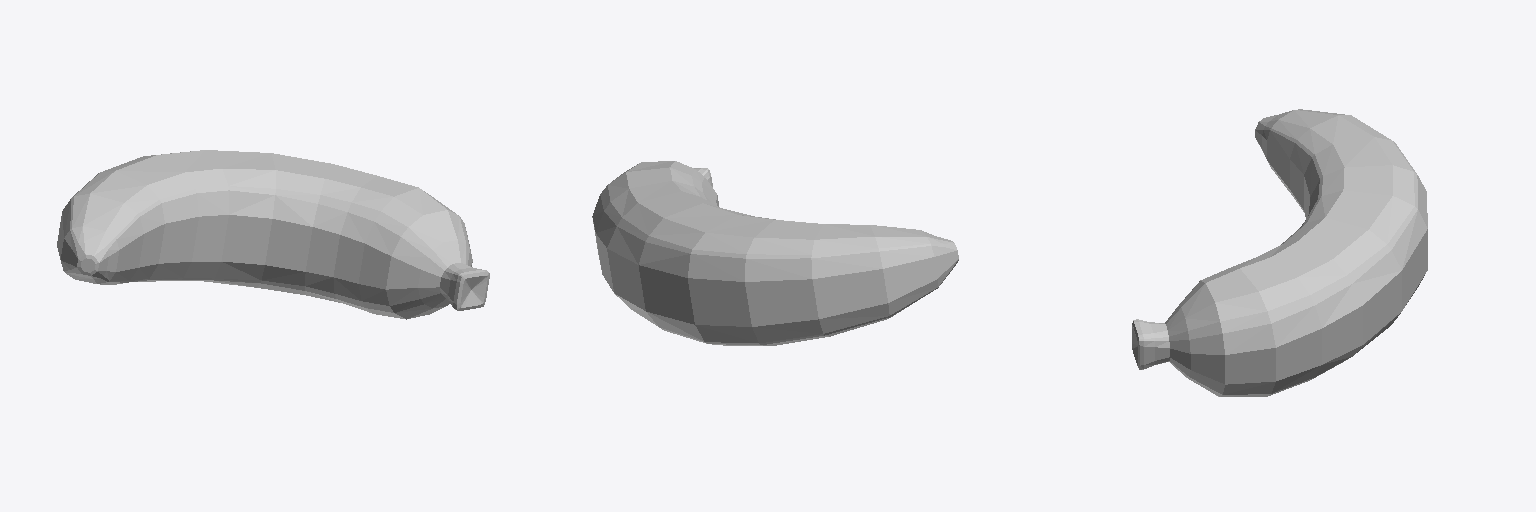
Rendered from banana.obj.
3 views of the same model, side by side, from view 1: azimuth 30°, elevation 25°; view 2: azimuth 150°, elevation 25°; view 3: azimuth 270°, elevation 25° (orthographic).
Parts seen in each view (by area): view 1: Banana; view 2: Banana; view 3: Banana.
Boxes of the visible parts, box(x1,y1,x2,y2) form: Banana: box(57, 150, 489, 319); Banana: box(592, 161, 958, 345); Banana: box(1132, 109, 1427, 396).
Size of the model in its own units: 10.43 by 4 by 7.21.